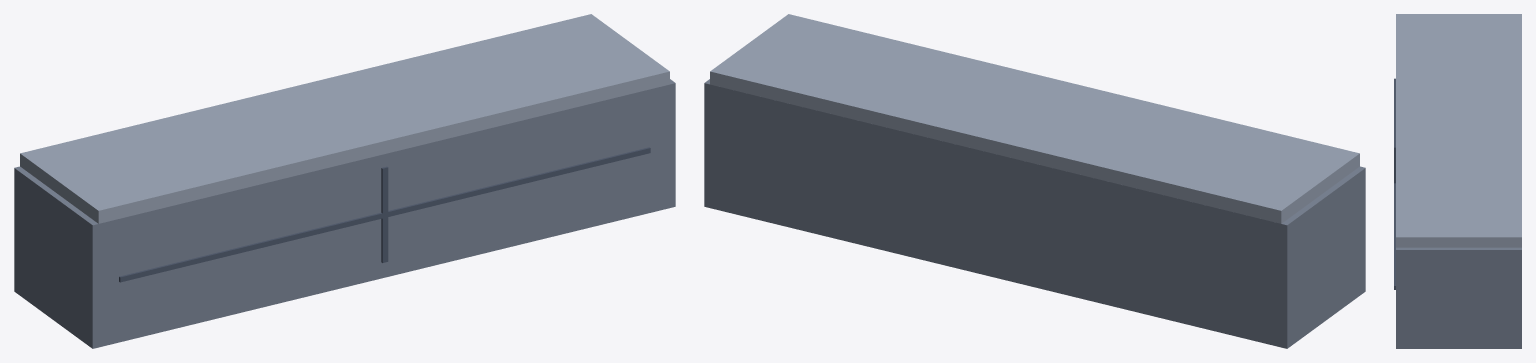
Rendered from tvstand-lite.glb.
The picture shows the model from 3 angles, left to right: view 1: azimuth 30°, elevation 25°; view 2: azimuth 150°, elevation 25°; view 3: azimuth 270°, elevation 25°; orthographic projection. The views are drawn at different scales.
Visible parts, largest first — view 1: ha-bridge-v1-tvstand; view 2: ha-bridge-v1-tvstand; view 3: ha-bridge-v1-tvstand.
Boxes of the visible parts, left/top/right/bottom form: ha-bridge-v1-tvstand: left=14, top=14, right=675, bottom=348; ha-bridge-v1-tvstand: left=704, top=14, right=1365, bottom=348; ha-bridge-v1-tvstand: left=1394, top=14, right=1521, bottom=348.
Bounding box in the file's own units: 1.8 × 0.4224 × 0.4263.
